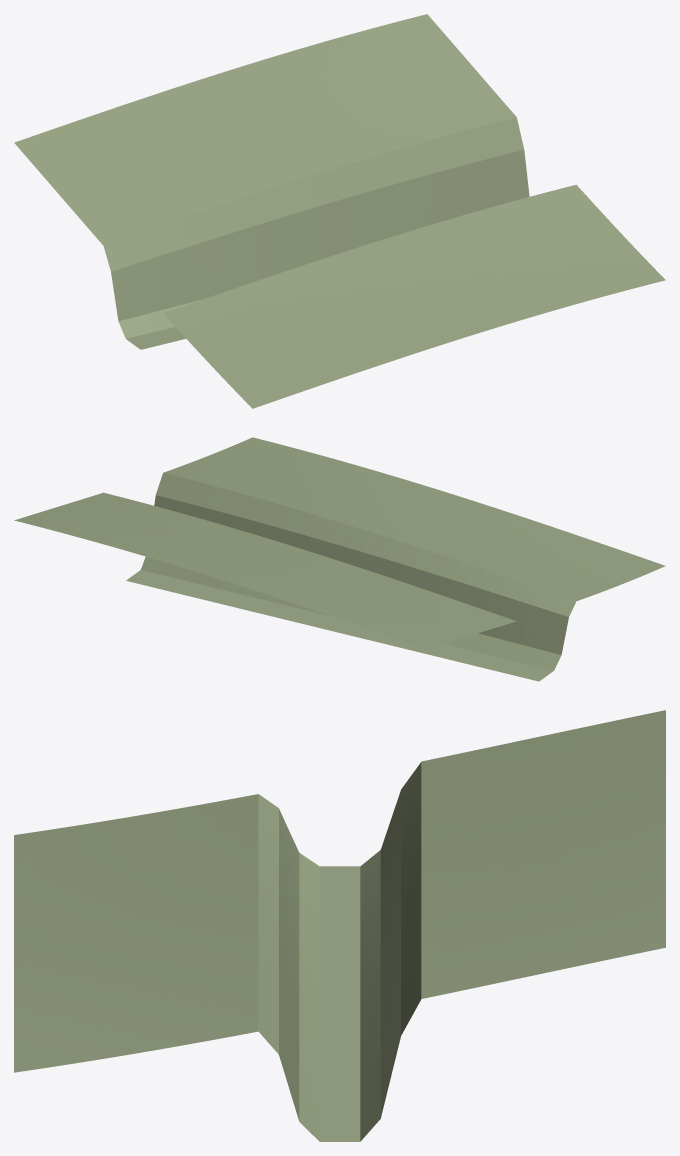
Rendered from valley-10-2.glb.
The picture shows the model from 3 angles, top to bottom: view 1: azimuth 30°, elevation 25°; view 2: azimuth 150°, elevation 25°; view 3: azimuth 270°, elevation 25°; orthographic projection. The views are drawn at different scales.
Visible parts, largest first — view 1: valley-10-2; view 2: valley-10-2; view 3: valley-10-2.
Part boxes in pixels (left/top/right/bottom): valley-10-2: left=14, top=14, right=665, bottom=408; valley-10-2: left=14, top=437, right=665, bottom=681; valley-10-2: left=14, top=710, right=665, bottom=1141.
Bounding box in the file's own units: 256 × 84.14 × 256.
